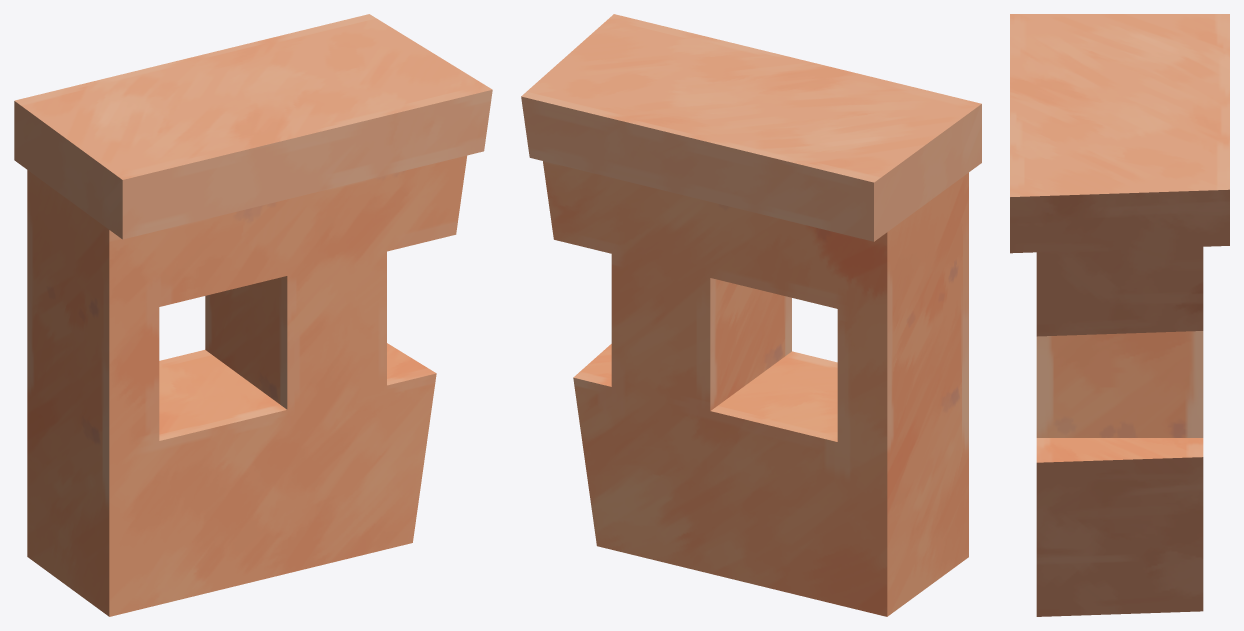
File: parapet_pierced_s03.fbx
3 views of the same model, side by side, from view 1: azimuth 30°, elevation 25°; view 2: azimuth 150°, elevation 25°; view 3: azimuth 270°, elevation 25° (orthographic). The views are drawn at different scales.
Parts seen in each view (by area): view 1: parapet_pierced_s03; view 2: parapet_pierced_s03; view 3: parapet_pierced_s03.
Part boxes in pixels (bbox=[...]): parapet_pierced_s03: bbox=[14, 14, 492, 616]; parapet_pierced_s03: bbox=[521, 14, 981, 616]; parapet_pierced_s03: bbox=[1010, 14, 1229, 616].
Bounding box in the file's own units: 2.6 × 3 × 1.32.
